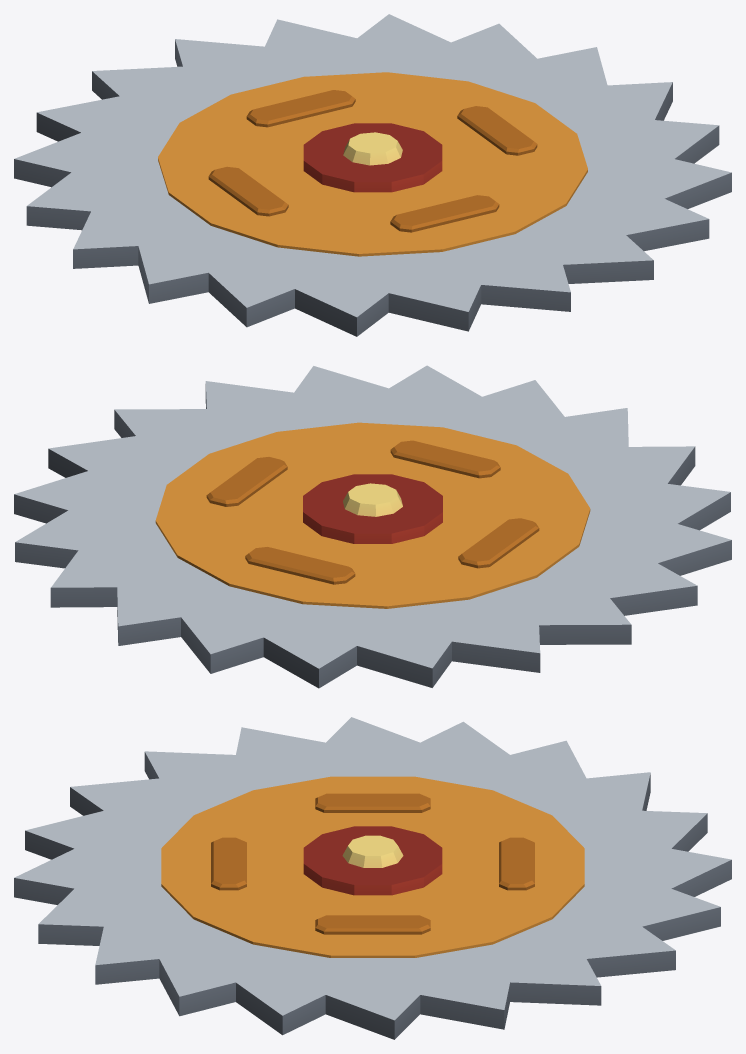
Rendered from SawBlade.fbx.
The picture shows the model from 3 angles, top to bottom: view 1: azimuth 30°, elevation 25°; view 2: azimuth 150°, elevation 25°; view 3: azimuth 270°, elevation 25°; orthographic projection.
Visible parts, largest first — view 1: Blade, Plate, Marks, Hub, HubGlow; view 2: Blade, Plate, Marks, Hub, HubGlow; view 3: Blade, Plate, Marks, Hub, HubGlow.
Part boxes in pixels (x1,y1,x2,y2): Blade: [14, 14, 731, 336]; Plate: [158, 72, 587, 256]; Marks: [208, 90, 537, 232]; Hub: [303, 123, 442, 192]; HubGlow: [343, 132, 402, 165]; Blade: [14, 365, 731, 688]; Plate: [155, 422, 590, 608]; Marks: [206, 440, 539, 584]; Hub: [303, 474, 442, 543]; HubGlow: [343, 483, 402, 516]; Blade: [14, 717, 731, 1039]; Plate: [161, 776, 584, 957]; Marks: [211, 793, 534, 934]; Hub: [303, 826, 442, 895]; HubGlow: [342, 835, 403, 867].
Size of the model in its own units: 0.9982 by 0.077 by 0.9982.
Materials: 2 (2 with a texture image).
